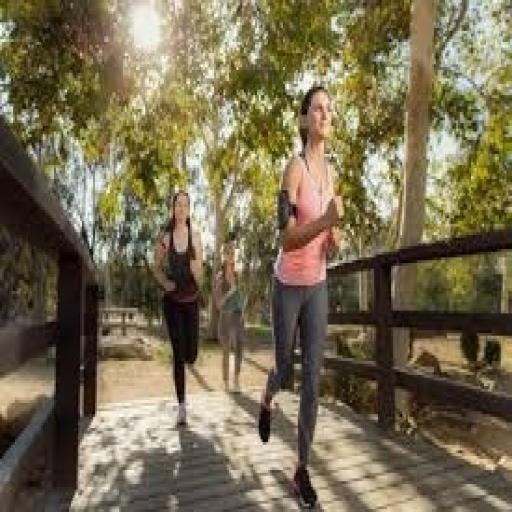running: (255, 81, 346, 509), (149, 187, 210, 431), (210, 238, 250, 397)
